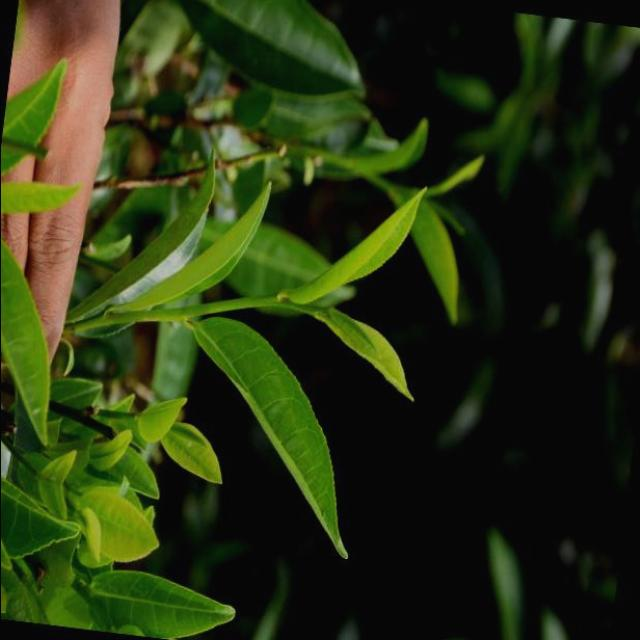Stem: (267, 296, 280, 307)
